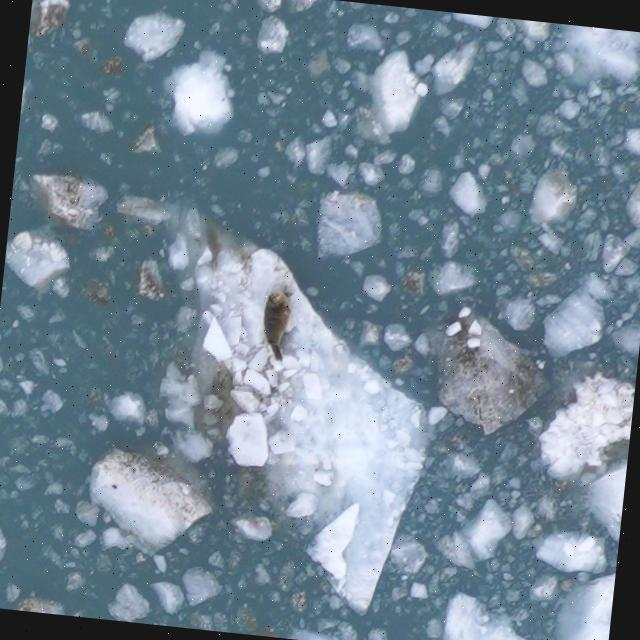seal: (254, 285, 295, 365)
